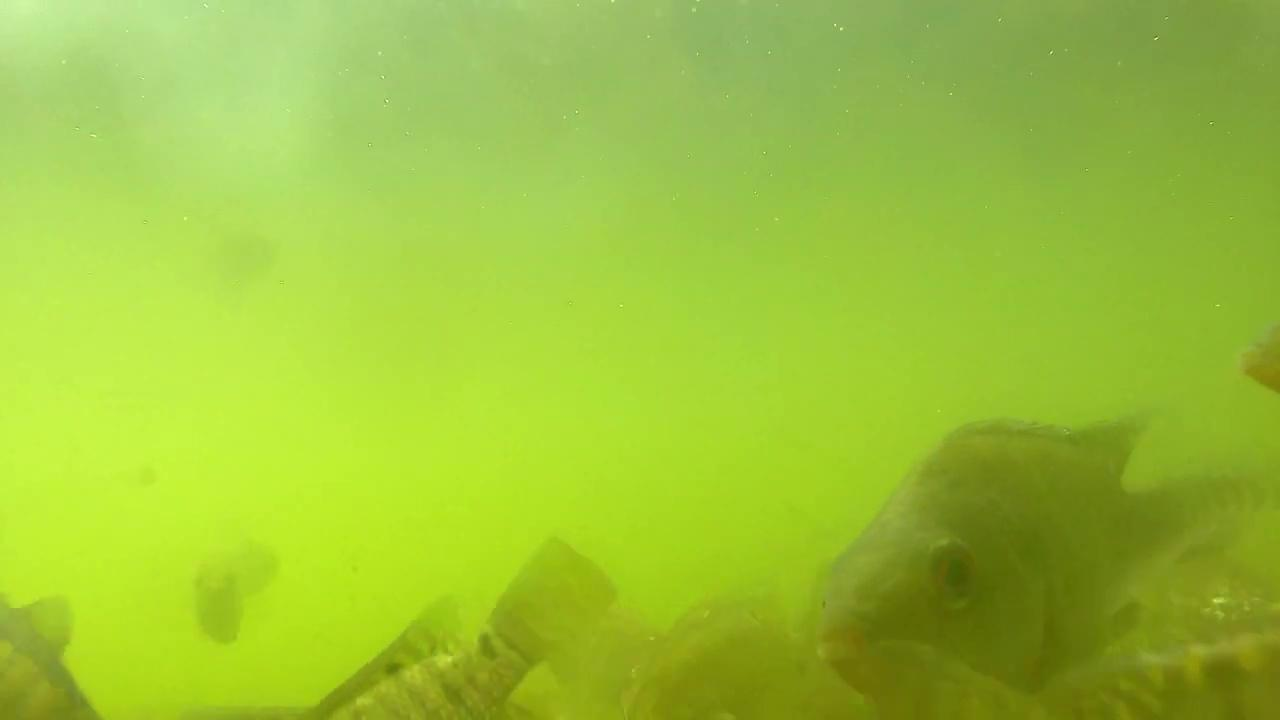Tilapia: (827, 416, 1246, 690)
